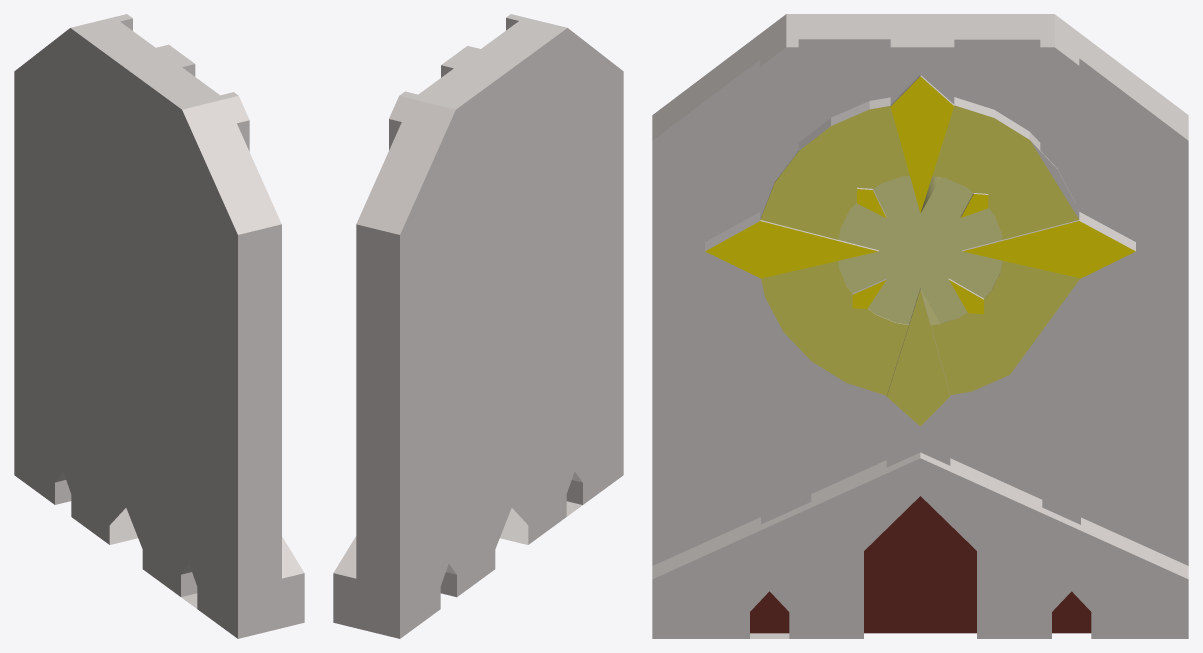
File: modeloTemplo.fbx
3 views of the same model, side by side, from view 1: azimuth 30°, elevation 25°; view 2: azimuth 150°, elevation 25°; view 3: azimuth 270°, elevation 25° (orthographic). The views are drawn at different scales.
Parts seen in each view (by area): view 1: Fachada Templo da luz - trabalho de cg; view 2: Fachada Templo da luz - trabalho de cg; view 3: Fachada Templo da luz - trabalho de cg.
Part boxes in pixels (x1,y1,x2,y2): Fachada Templo da luz - trabalho de cg: (14,14,304,638); Fachada Templo da luz - trabalho de cg: (333,14,623,638); Fachada Templo da luz - trabalho de cg: (652,14,1188,638).
Size of the model in its own units: 703 by 4924 by 4086.
